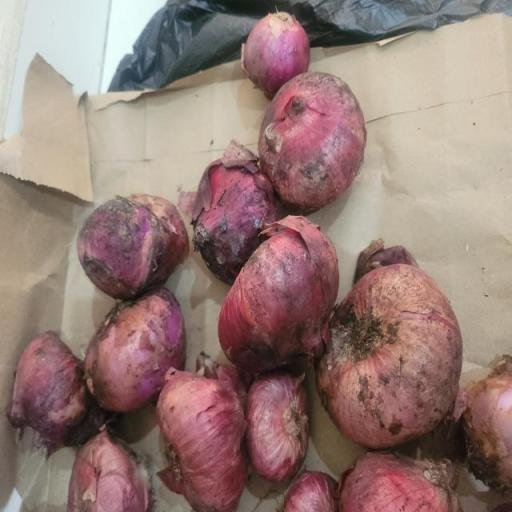healthy: (148, 373, 255, 512), (246, 382, 318, 482), (240, 0, 314, 95)
